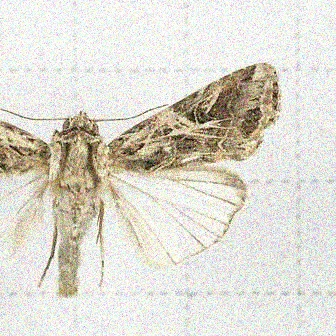Spodoptera litura: (0, 62, 283, 298)
